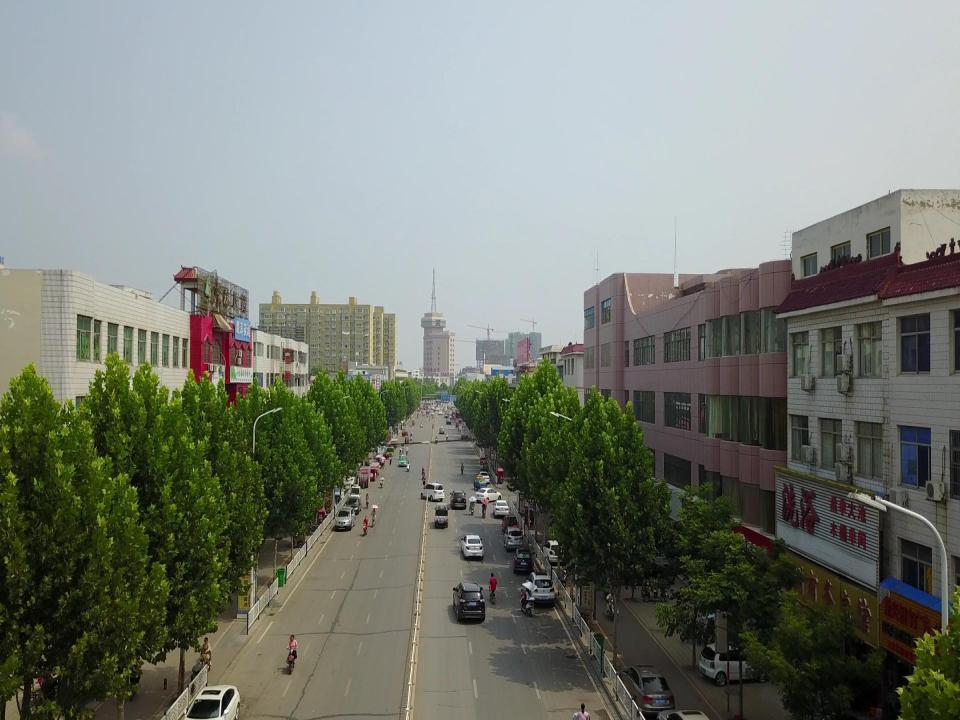car: (698, 641, 770, 686), (619, 665, 674, 718), (184, 685, 241, 720), (108, 641, 140, 686), (618, 563, 676, 586), (453, 582, 485, 621), (527, 571, 555, 604), (542, 540, 567, 564), (462, 535, 484, 560), (334, 507, 356, 530), (513, 549, 533, 573), (474, 487, 501, 503), (504, 528, 522, 551), (501, 514, 520, 532), (449, 490, 465, 508), (493, 500, 509, 518), (345, 497, 361, 514), (342, 473, 355, 487), (333, 486, 345, 499), (478, 471, 490, 483), (398, 455, 408, 466), (438, 426, 444, 435)
truck: (434, 503, 448, 528), (473, 476, 487, 490), (460, 425, 468, 441)
van: (420, 483, 444, 502)
